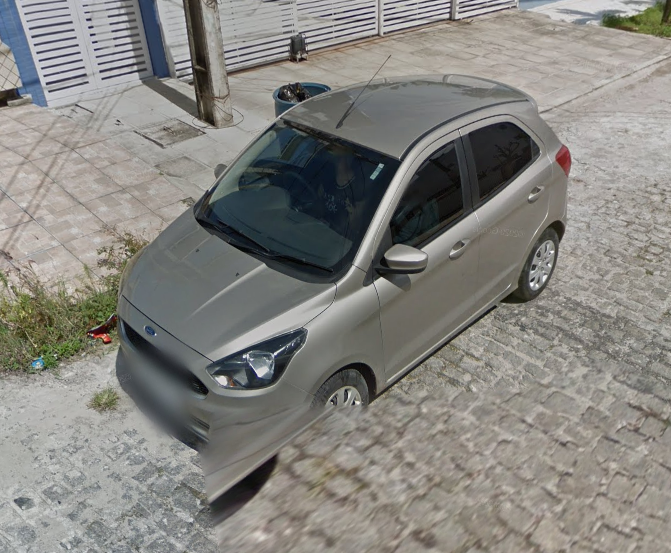car: (111, 50, 573, 463)
